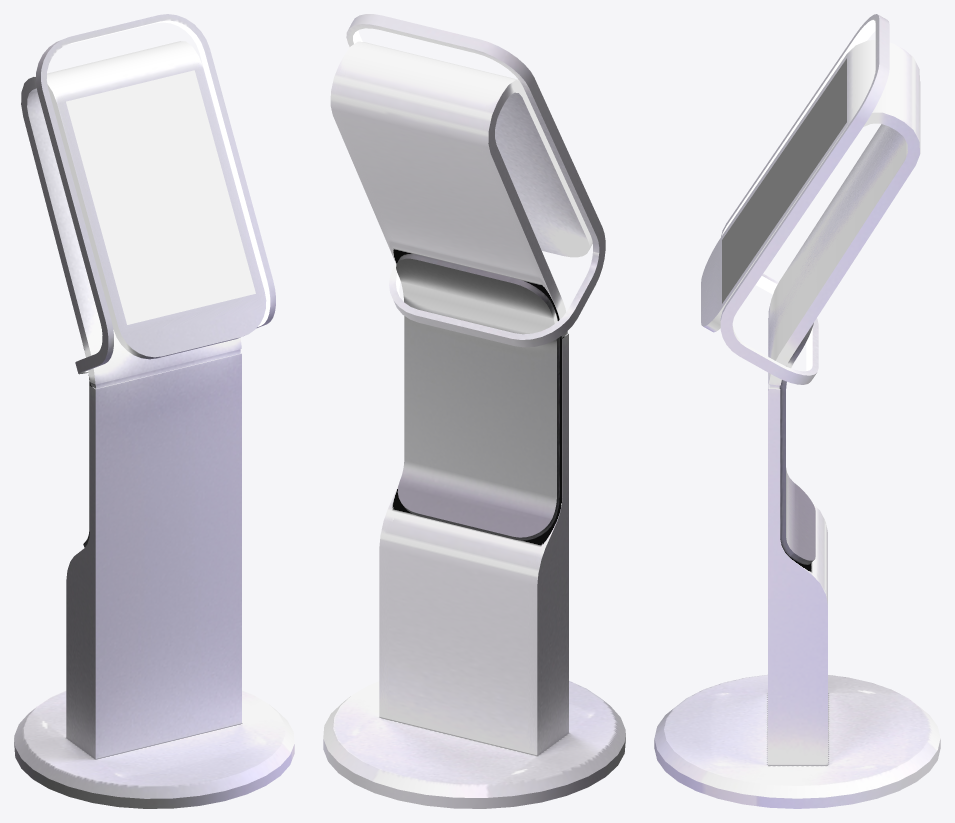
3 views of the same model, side by side, from view 1: azimuth 30°, elevation 25°; view 2: azimuth 150°, elevation 25°; view 3: azimuth 270°, elevation 25° (orthographic). The views are drawn at different scales.
Visible parts, largest first — view 1: 1, Flat_08011737, Cylinder, Plane; view 2: 1, 1.001, Cylinder, Plane; view 3: 1, Cylinder, Plane, Flat_08011737, 1.001.
Part boxes in pixels (<box>): 1: <box>21,41,266,759</box>; Flat_08011737: <box>66,70,255,324</box>; Cylinder: <box>14,690,294,808</box>; Plane: <box>35,14,275,374</box>; 1: <box>330,41,592,755</box>; 1.001: <box>396,254,560,540</box>; Cylinder: <box>323,681,625,808</box>; Plane: <box>346,14,605,347</box>; 1: <box>701,40,920,765</box>; Cylinder: <box>654,674,940,808</box>; Plane: <box>720,14,889,384</box>; Flat_08011737: <box>722,58,846,303</box>; 1.001: <box>779,323,815,564</box>.
Size of the model in its own units: 0.4256 by 1.16 by 0.4256.
4 materials, 2 textured.
